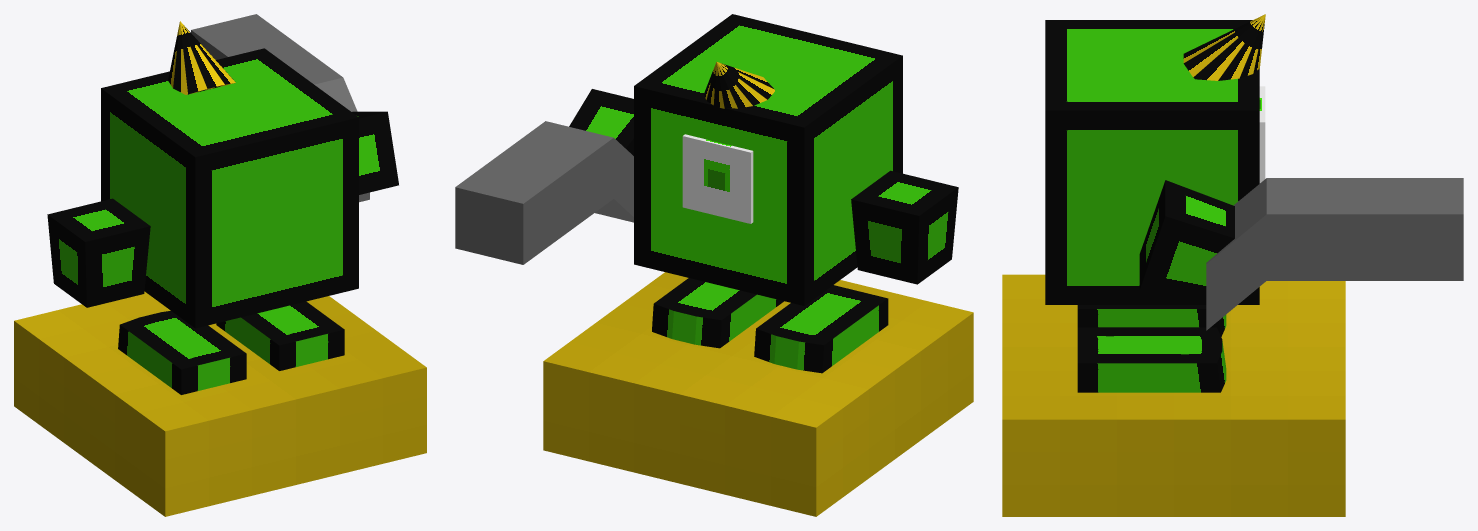
The model's file is tekiasyu.fbx.
3 views of the same model, side by side, from view 1: azimuth 30°, elevation 25°; view 2: azimuth 150°, elevation 25°; view 3: azimuth 270°, elevation 25° (orthographic). The views are drawn at different scales.
Visible parts, largest first — view 1: cuboid, cuboid_6, cuboid_4, cuboid_2, cuboid_1, cuboid_7, cuboid_3, cone; view 2: cuboid_6, cuboid, cuboid_7, cuboid_4, cuboid_2, cuboid_1, cuboid_5, cuboid_3, cone; view 3: cuboid_6, cuboid, cuboid_7, cuboid_1, cuboid_3, cone, cuboid_2, cuboid_5.
Boxes of the visible parts, x1,y1,x2,y2 form: cuboid: (101, 48, 358, 328); cuboid_6: (14, 291, 426, 516); cuboid_4: (47, 198, 150, 307); cuboid_2: (118, 310, 246, 394); cuboid_1: (216, 301, 344, 370); cuboid_7: (191, 14, 369, 202); cuboid_3: (352, 111, 398, 194); cone: (168, 21, 235, 94); cuboid_6: (543, 272, 973, 516); cuboid: (634, 14, 902, 305); cuboid_7: (455, 121, 633, 264); cuboid_4: (851, 170, 958, 284); cuboid_2: (754, 285, 888, 373); cuboid_1: (652, 278, 783, 348); cuboid_5: (682, 134, 753, 223); cuboid_3: (569, 89, 633, 155); cone: (704, 61, 774, 108); cuboid_6: (1002, 274, 1345, 516); cuboid: (1045, 20, 1259, 304); cuboid_7: (1206, 178, 1463, 330); cuboid_1: (1077, 327, 1226, 392); cuboid_3: (1139, 180, 1234, 303); cone: (1183, 14, 1265, 80); cuboid_2: (1077, 305, 1226, 336); cuboid_5: (1259, 86, 1265, 183).
Size of the model in its own units: 125 by 138 by 134.
